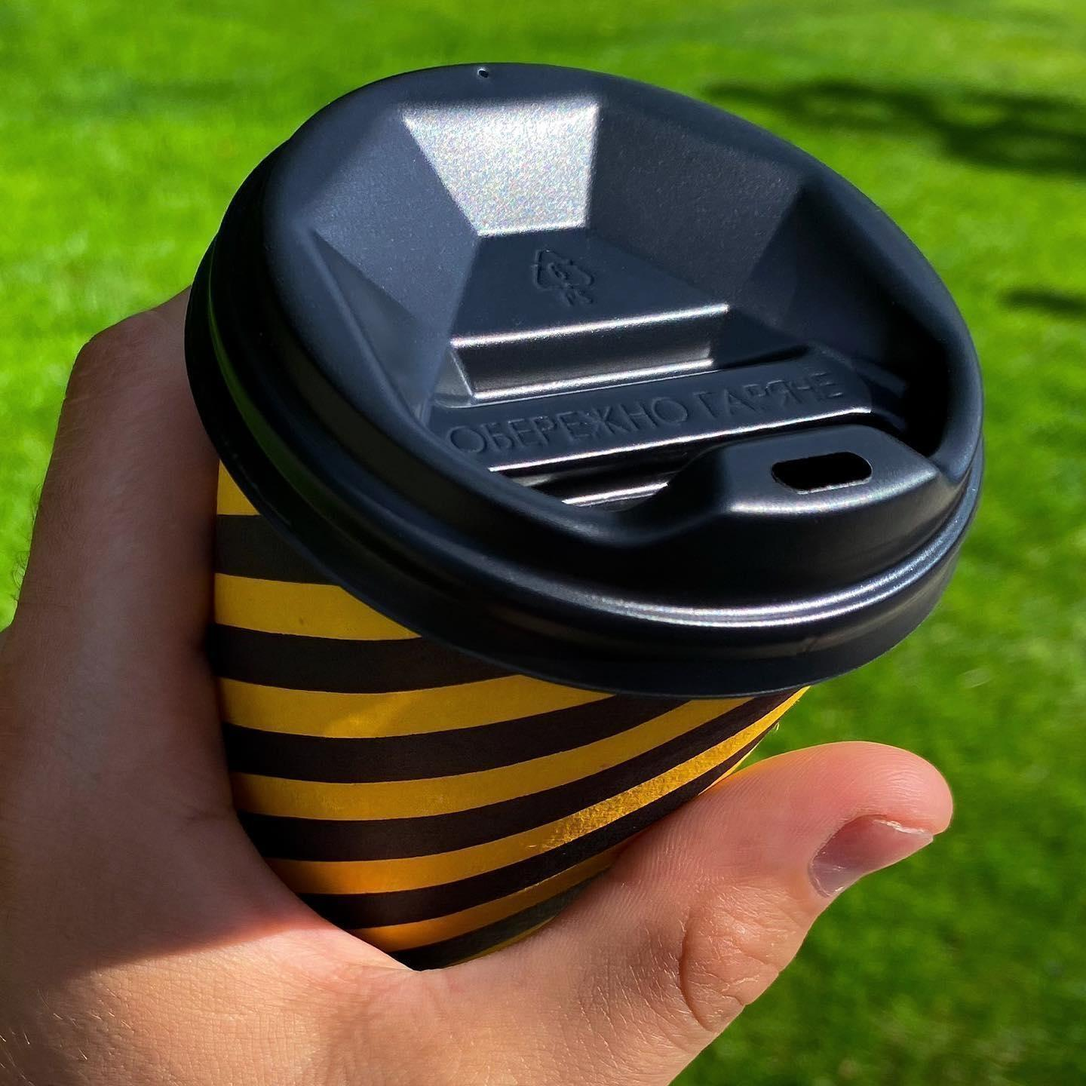cup-disposable: (177, 51, 1003, 966)
